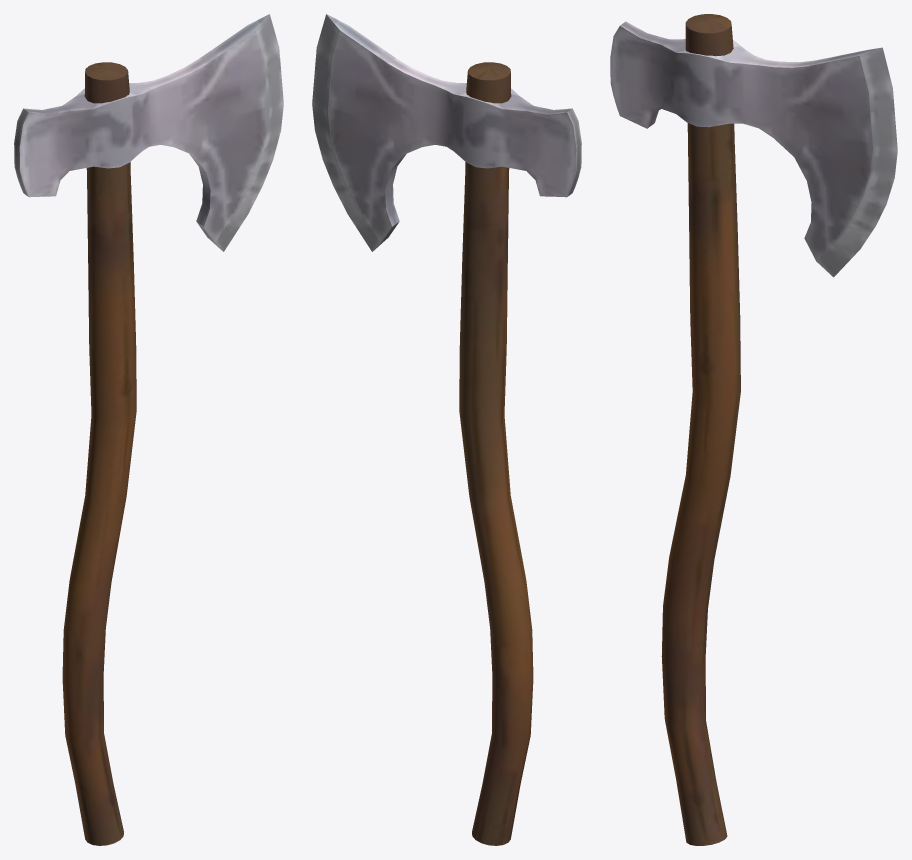
File: woodcutter_axe.glb
3 renders of one model, left to right at view 1: azimuth 30°, elevation 25°; view 2: azimuth 150°, elevation 25°; view 3: azimuth 330°, elevation 25°, orthographic. The views are drawn at different scales.
Parts seen in each view (by area): view 1: woodcutter_axe; view 2: woodcutter_axe; view 3: woodcutter_axe.
Boxes of the visible parts, <box> form: woodcutter_axe: <box>14,14,283,845</box>; woodcutter_axe: <box>312,14,581,845</box>; woodcutter_axe: <box>610,14,897,845</box>.
Bounding box in the file's own units: 0.292 × 0.82 × 0.0456.
Materials: 1 (1 with a texture image).
